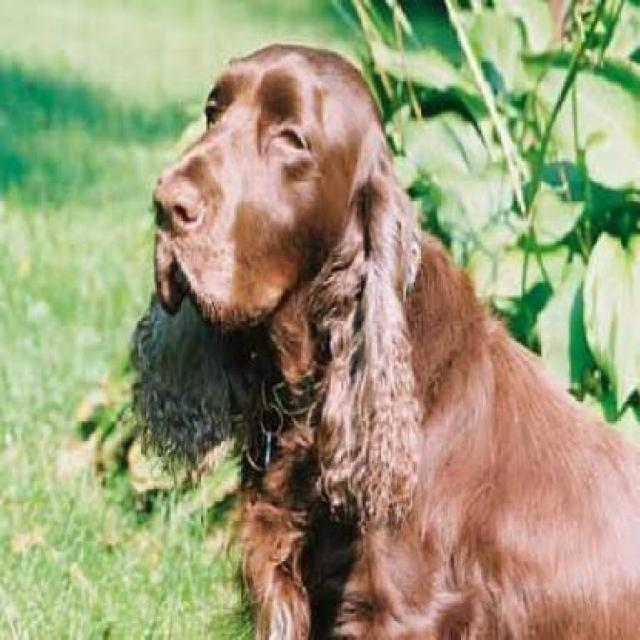animals: (117, 36, 637, 630)
